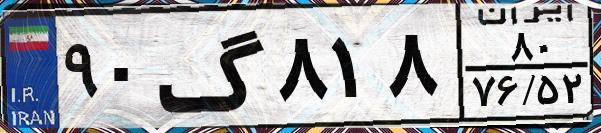0: (110, 28, 156, 98), (537, 27, 568, 80)
1: (330, 28, 385, 110)
2: (560, 70, 590, 125)
5: (535, 70, 560, 125)
6: (495, 70, 520, 125)
7: (470, 70, 495, 125)
8: (270, 28, 330, 110), (385, 28, 445, 110), (508, 27, 537, 80)
9: (57, 26, 110, 100)
گ: (156, 12, 270, 120)
